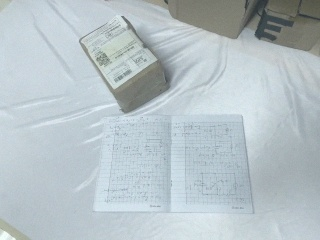box: (78, 13, 170, 113), (255, 1, 320, 56), (165, 1, 253, 41)
